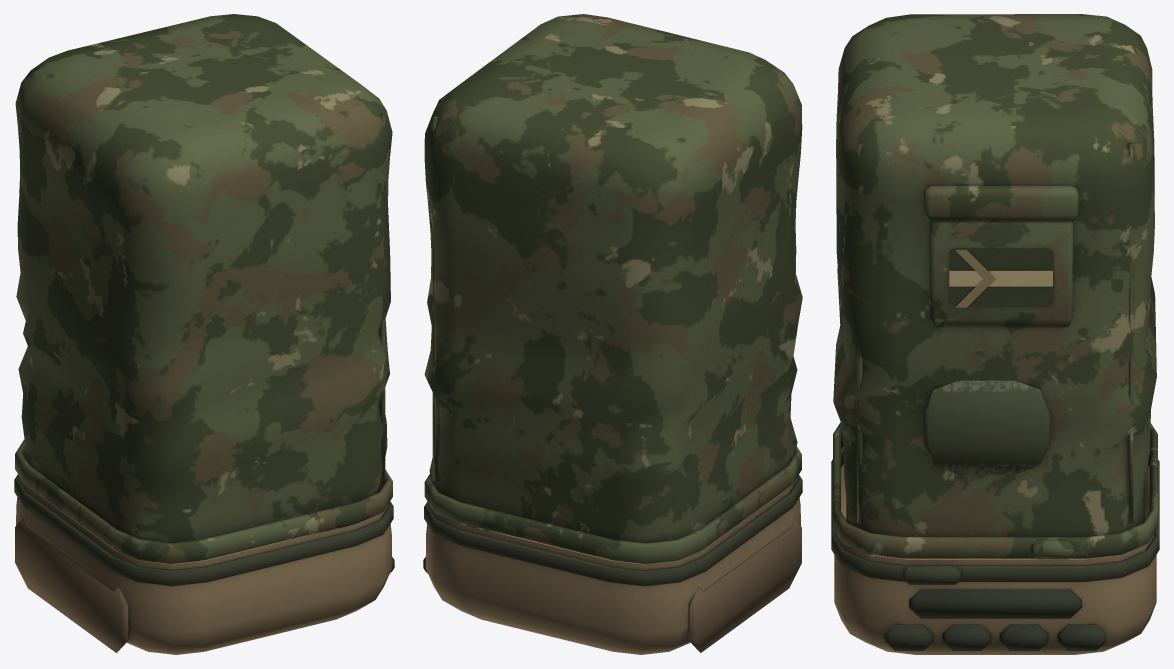
The model's file is Ashford_Arm.glb.
3 views of the same model, side by side, from view 1: azimuth 30°, elevation 25°; view 2: azimuth 150°, elevation 25°; view 3: azimuth 270°, elevation 25° (orthographic). The views are drawn at different scales.
Visible parts, largest first — view 1: Ashford_Arm_cloth, Ashford_Arm_glove, Ashford_Arm_strap; view 2: Ashford_Arm_cloth, Ashford_Arm_glove, Ashford_Arm_strap; view 3: Ashford_Arm_cloth, Ashford_Arm_knee, Ashford_Arm_glove, Ashford_Arm_strap, Ashford_Arm_band.
Part boxes in pixels (box(x1,y1,x2,y2)): Ashford_Arm_cloth: box(15, 14, 392, 563); Ashford_Arm_glove: box(15, 477, 391, 654); Ashford_Arm_strap: box(14, 474, 393, 586); Ashford_Arm_cloth: box(424, 14, 802, 564); Ashford_Arm_glove: box(425, 477, 801, 654); Ashford_Arm_strap: box(424, 475, 802, 586); Ashford_Arm_cloth: box(833, 14, 1157, 559); Ashford_Arm_knee: box(884, 380, 1106, 650); Ashford_Arm_glove: box(834, 447, 1156, 654); Ashford_Arm_strap: box(831, 451, 1159, 584); Ashford_Arm_band: box(949, 248, 1052, 307).
Size of the model in its own units: 1.17 by 2.05 by 1.14.
Materials: 1 (1 with a texture image).
